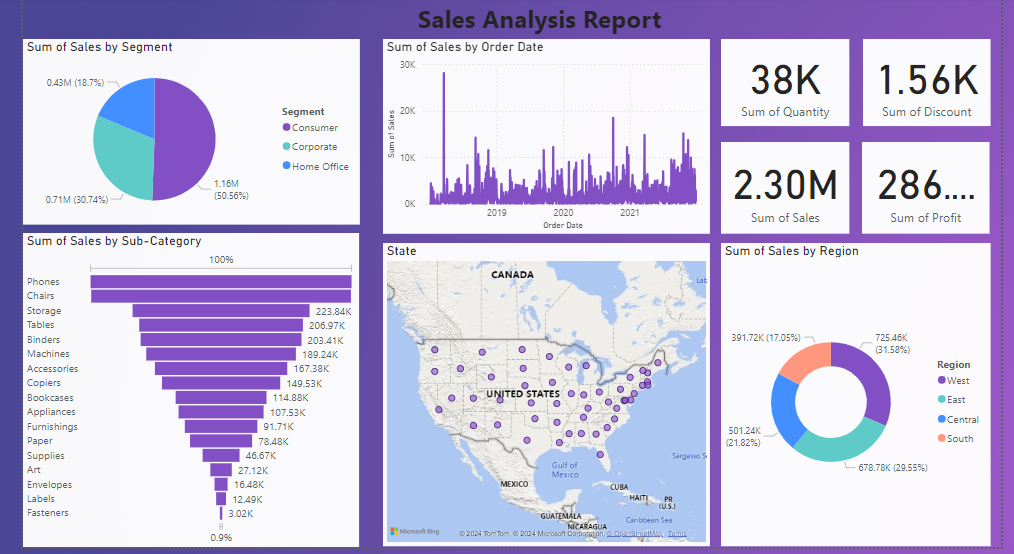

The dashboard page shown, as its layout file describes it:
{"tool":"powerbi","page":{"name":"Page 1","canvas":[1280,720],"ordinal":0},"visuals":[{"type":"donutChart","fields":{"Category":["Orders.Region"],"Y":["Sum(Orders.Sales)"]},"box":[914.4,322.6,352.8,397.4],"z":0},{"type":"funnel","fields":{"Category":["Orders.Sub-Category"],"Y":["Sum(Orders.Sales)"]},"box":[0,309.1,440.1,411.5],"z":1000},{"type":"map","fields":{"Category":["Orders.State"]},"box":[470.9,322.6,427.7,397.4],"z":2000},{"type":"pieChart","fields":{"Category":["Orders.Segment"],"Y":["Sum(Orders.Sales)"]},"box":[0,55,441.2,243.5],"z":3000},{"type":"lineChart","fields":{"Category":["Orders.Order Date"],"Y":["Sum(Orders.Sales)"]},"box":[470.9,54.7,427.7,254.9],"z":4000},{"type":"card","fields":{"Values":["Sum(Orders.Sales)"]},"box":[914.4,190.1,168.5,119.5],"z":5000},{"type":"card","fields":{"Values":["Sum(Orders.Quantity)"]},"box":[914.4,54.7,168.5,113.8],"z":6000},{"type":"card","fields":{"Values":["Sum(Orders.Discount)"]},"box":[1100.2,54.7,167,113.8],"z":7000},{"type":"card","fields":{"Values":["Sum(Orders.Profit)"]},"box":[1098.7,190.1,167,119.5],"z":8000},{"type":"textbox","box":[511.9,0,345.6,55],"z":9000}]}

Visuals, with their boxes in screenshot pixels (x1, y1, x2, y2), scaled from the page's 1280x720 canvas onto the 1014x554 screenshot:
donutChart - Orders.Region x Sum(Orders.Sales): 724/248/1004/553
funnel - Orders.Sub-Category x Sum(Orders.Sales): 0/238/349/553
map - Orders.State: 373/248/712/553
pieChart - Orders.Segment x Sum(Orders.Sales): 0/42/350/230
lineChart - Orders.Order Date x Sum(Orders.Sales): 373/42/712/238
card - Sum(Orders.Sales): 724/146/858/238
card - Sum(Orders.Quantity): 724/42/858/130
card - Sum(Orders.Discount): 872/42/1004/130
card - Sum(Orders.Profit): 870/146/1003/238
textbox: 406/0/679/42
